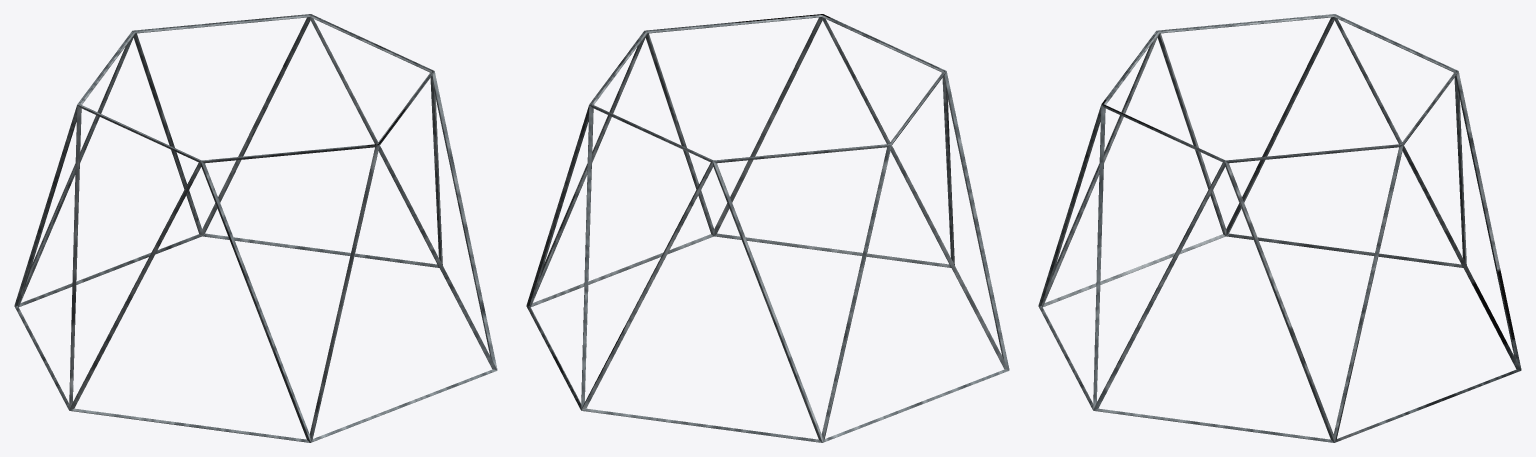
File: studyroom_18.obj
3 renders of one model, left to right at view 1: azimuth 30°, elevation 25°; view 2: azimuth 150°, elevation 25°; view 3: azimuth 270°, elevation 25°, orthographic.
Bounding box in the file's own units: 0.6689 × 0.3758 × 0.6534.
